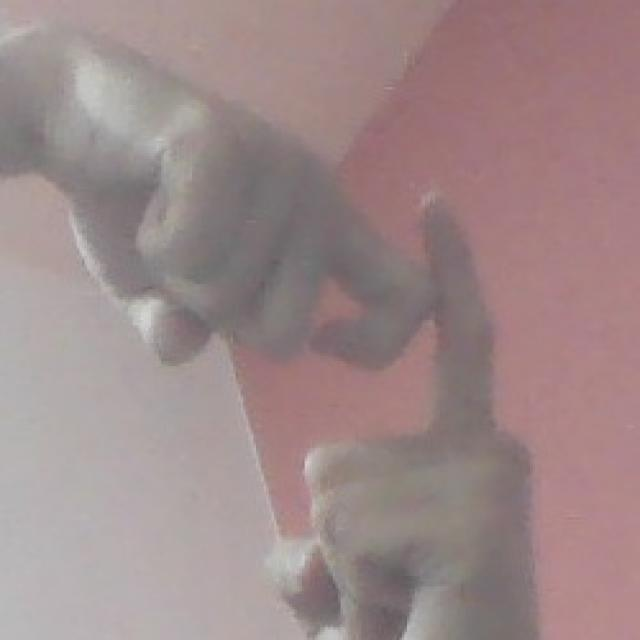Alphabet-K: (51, 15, 545, 640)
